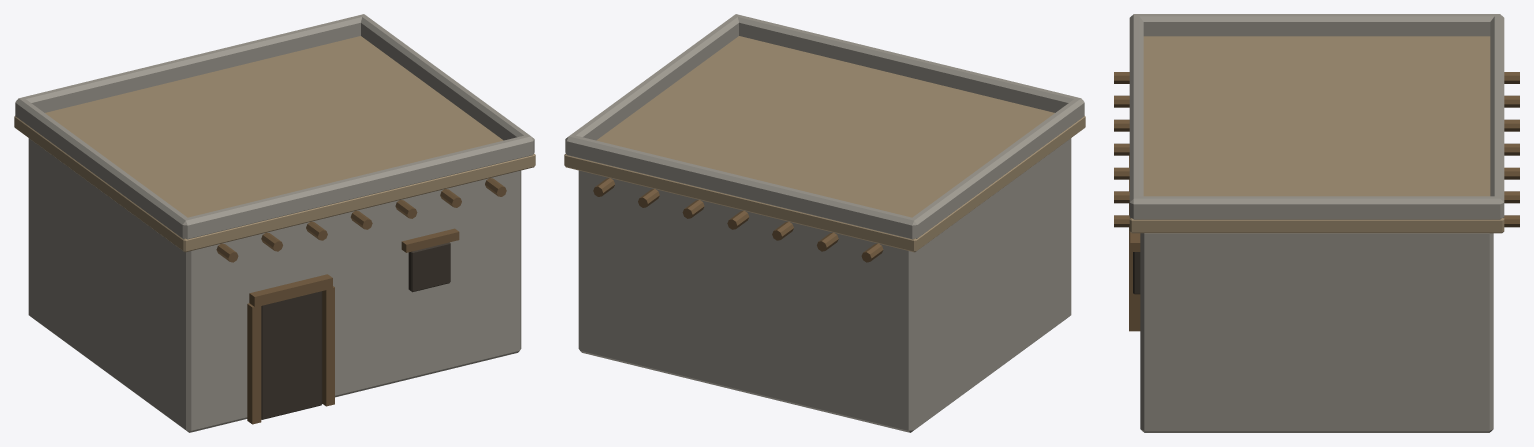
File: stone_house.glb
The picture shows the model from 3 angles, left to right: view 1: azimuth 30°, elevation 25°; view 2: azimuth 150°, elevation 25°; view 3: azimuth 270°, elevation 25°; orthographic projection. The views are drawn at different scales.
Parts seen in each view (by area): view 1: stone, mud, dark, wood; view 2: stone, mud, wood; view 3: stone, mud, wood.
Part boxes in pixels (x1,y1,x2,y2): stone: [15, 14, 534, 432]; mud: [14, 36, 535, 252]; dark: [261, 242, 450, 419]; wood: [216, 178, 506, 424]; stone: [565, 14, 1084, 432]; mud: [564, 36, 1085, 252]; wood: [593, 178, 883, 262]; stone: [1129, 14, 1504, 432]; mud: [1129, 36, 1504, 233]; wood: [1114, 72, 1519, 331].
Size of the model in its own units: 6.3 by 3.72 by 5.74.
